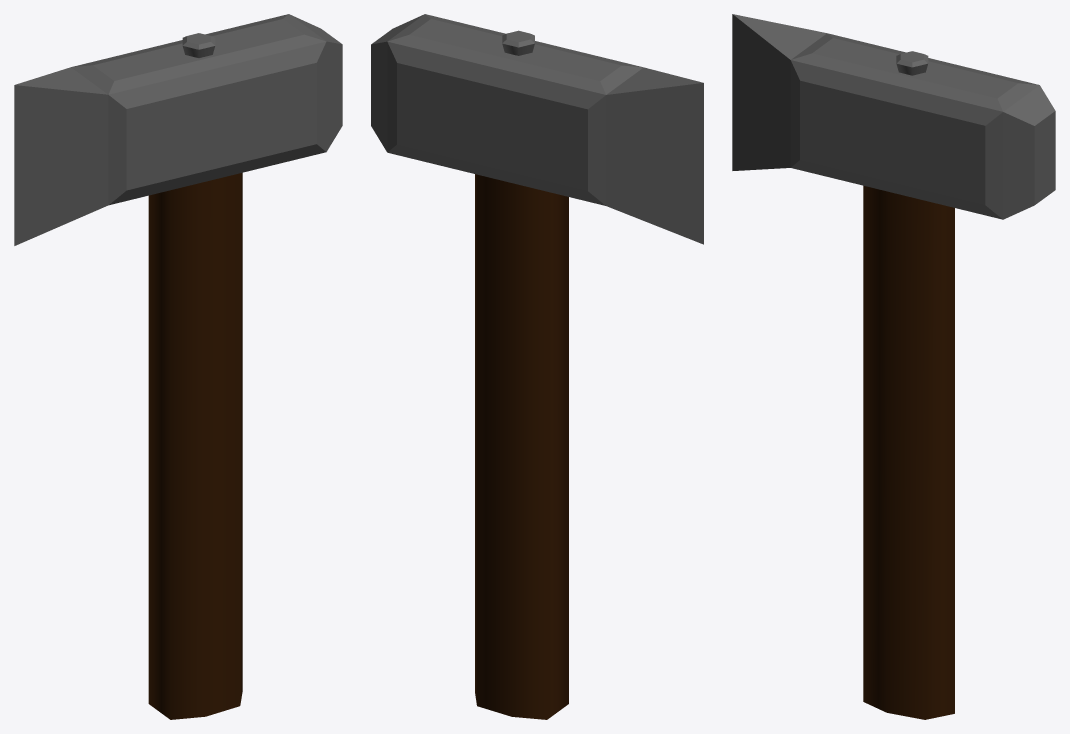
Rendered from axe.FBX.
The picture shows the model from 3 angles, left to right: view 1: azimuth 30°, elevation 25°; view 2: azimuth 150°, elevation 25°; view 3: azimuth 330°, elevation 25°; orthographic projection. The views are drawn at different scales.
Visible parts, largest first — view 1: Cylinder001, Box001, Cylinder002; view 2: Cylinder001, Box001, Cylinder002; view 3: Cylinder001, Box001, Cylinder002.
Boxes of the visible parts, left/top/right/bottom form: Cylinder001: left=148, top=172, right=242, bottom=719; Box001: left=14, top=14, right=342, bottom=245; Cylinder002: left=182, top=33, right=215, bottom=57; Cylinder001: left=475, top=174, right=568, bottom=719; Box001: left=371, top=14, right=703, bottom=244; Cylinder002: left=502, top=30, right=534, bottom=55; Cylinder001: left=863, top=185, right=954, bottom=719; Box001: left=732, top=14, right=1055, bottom=219; Cylinder002: left=896, top=51, right=928, bottom=75.
Size of the model in its own units: 58.53 by 116 by 14.65.
